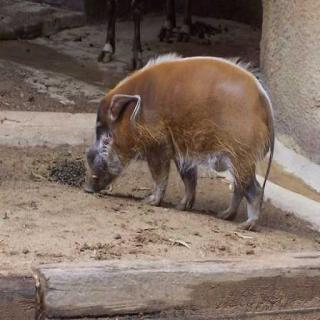Pig: (87, 33, 307, 213)
